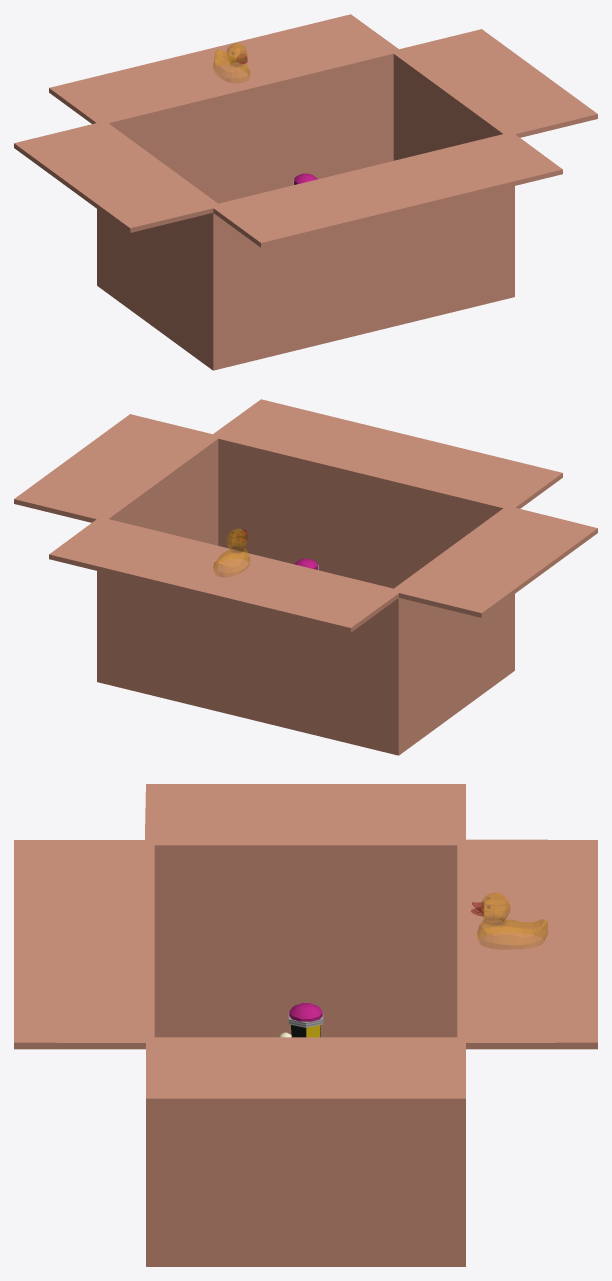
The model's file is KickUp 1.glb.
The picture shows the model from 3 angles, top to bottom: view 1: azimuth 30°, elevation 25°; view 2: azimuth 150°, elevation 25°; view 3: azimuth 270°, elevation 25°; orthographic projection. The views are drawn at different scales.
Parts seen in each view (by area): view 1: Box, RubberDuck; view 2: Box, RubberDuck; view 3: Box, RubberDuck.
Boxes of the visible parts, bbox=[...] form: Box: bbox=[14, 14, 597, 370]; RubberDuck: bbox=[213, 43, 249, 82]; Box: bbox=[14, 399, 597, 755]; RubberDuck: bbox=[213, 529, 249, 577]; Box: bbox=[14, 784, 597, 1266]; RubberDuck: bbox=[471, 893, 547, 949].
Size of the model in its own units: 12.22 by 4.92 by 9.6.
9 materials, 4 textured.
